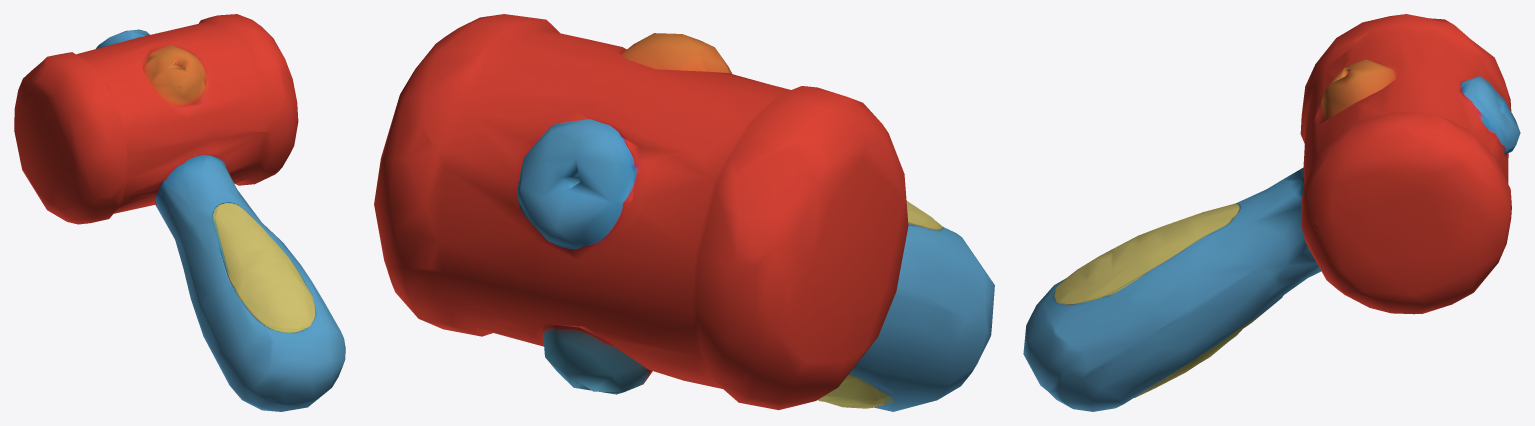
The model's file is tool_hammer.fbx.
3 views of the same model, side by side, from view 1: azimuth 30°, elevation 25°; view 2: azimuth 150°, elevation 25°; view 3: azimuth 270°, elevation 25° (orthographic). The views are drawn at different scales.
Visible parts, largest first — view 1: tripo_node_7401ea0e; view 2: tripo_node_7401ea0e; view 3: tripo_node_7401ea0e.
Part boxes in pixels (x1=…): tripo_node_7401ea0e: x1=14, y1=14, x2=345, y2=411; tripo_node_7401ea0e: x1=374, y1=14, x2=994, y2=411; tripo_node_7401ea0e: x1=1023, y1=14, x2=1520, y2=411.
Bounding box in the file's own units: 65.98 × 100 × 74.93.
Materials: 1 (1 with a texture image).
